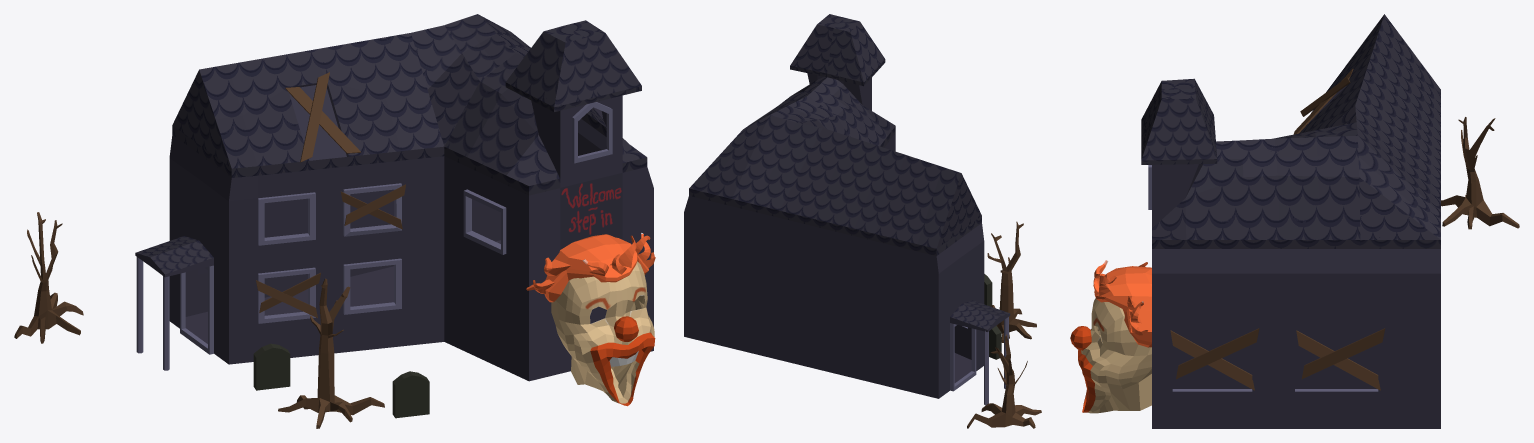
Rendered from HauntedHouse2.fbx.
The picture shows the model from 3 angles, left to right: view 1: azimuth 30°, elevation 25°; view 2: azimuth 150°, elevation 25°; view 3: azimuth 270°, elevation 25°; orthographic projection. The views are drawn at different scales.
Visible parts, largest first — view 1: Cube, Head_hunted_house, Cube.009, Cylinder, Cylinder.001, Cube.010, Cube.011; view 2: Cube, Cylinder.001, Cylinder, Cube.011; view 3: Cube, Head_hunted_house, Cube.009, Cylinder.001.
Boxes of the visible parts, x1,y1,x2,y2 form: Cube: (135,14,653,381); Head_hunted_house: (526,233,655,406); Cube.009: (255,72,405,317); Cylinder: (278,278,384,428); Cylinder.001: (14,212,83,343); Cube.010: (392,371,429,418); Cube.011: (253,343,290,390); Cube: (684,14,1010,405); Cylinder.001: (967,334,1041,428); Cylinder: (987,221,1036,342); Cube.011: (989,325,1001,359); Cube: (1141,14,1440,428); Head_hunted_house: (1070,260,1151,413); Cube.009: (1170,69,1385,390); Cylinder.001: (1441,117,1519,229).
Bounding box in the file's own units: 1684 × 1433 × 1133.
